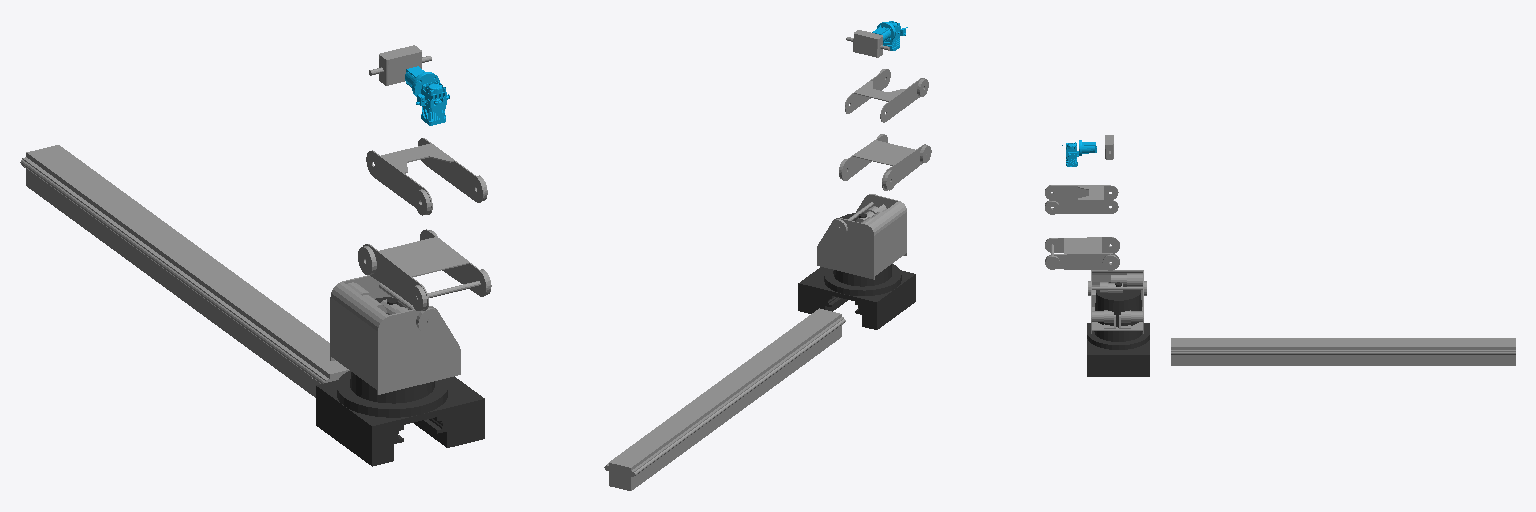
The robot description file, URDF, robot "scorbot-er-v-plus":
<?xml version="1.0" encoding="utf-8"?>
<!-- This URDF was automatically created by SolidWorks to URDF Exporter! Originally created by [author] ([email redacted]) 
     Commit Version: 1.6.0-4-g7f85cfe  Build Version: 1.6.7995.38578
     For more information, please see http://wiki.ros.org/sw_urdf_exporter -->
<robot 
  name="scorbot-er-v-plus">
  <link name="base_link">
    <inertial>
      <origin
        xyz="0 -0.5 0"
        rpy="0 0 0" />
      <mass
        value="300" />
      <inertia
        ixx="1"
        ixy="1"
        ixz="1"
        iyy="1"
        iyz="1"
        izz="1" />
    </inertial>
    <visual>
      <origin
        xyz="0 0 0"
        rpy="0 0 0" />
      <geometry>
        <mesh
          filename="package://scorbot_er_v/meshes/slide_base_link.STL" />
      </geometry>
      <material
        name="">
        <color
          rgba="0.63921 0.63921 0.63921 1" />
      </material>
    </visual>
    <collision>
      <origin
        xyz="0 0 0"
        rpy="0 0 0" />
      <geometry>
        <mesh
          filename="package://scorbot_er_v/meshes/slide_base_link.STL" />
      </geometry>
    </collision>
  </link>
  <link name="slide_base_link">
    <inertial>
      <origin
        xyz="0.01952 0.02097 -0.0065"
        rpy="0 0 0" />
      <mass
        value="5.79" />
      <inertia
        ixx="0.060964921632227"
        ixy="0.00083087941877"
        ixz="-0.004769390211207"
        iyy="0.070370393357185"
        iyz="-0.001444915336114"
        izz="0.074711101297281" />
    </inertial>
    <visual>
      <origin xyz="0 0 0" rpy="0 3.1416 0" />
      <geometry>
        <mesh
          filename="package://scorbot_er_v/meshes/base_link.STL" />
      </geometry>
      <material
        name="">
        <color
          rgba="0.2666 0.2666 0.2666 1" />
      </material>
    </visual>
    <collision>
      <origin
        xyz="0 0 0"
        rpy="0 3.1416 0" />
      <geometry>
        <mesh
          filename="package://scorbot_er_v/meshes/base_link.STL" />
      </geometry>
    </collision>
  </link>
  <joint name="slide_base_joint"
    type="prismatic">
    <origin 
      xyz="0 -0.20 0.105" 
      rpy="1.5708 0 0" />
    <parent link="base_link" />
    <child link="slide_base_link" />
    <axis xyz="0 0 -1" />
    <limit
      lower="-0.9"
      upper="0"
      effort="0"
      velocity="0" />
  </joint>
  <link name="body_link">
    <inertial>
      <origin
        xyz="0.00907 -0.00106 -0.07918"
        rpy="0 0 0" />
      <mass value="4.641" />
      <inertia
        ixx="0.058098396"
        ixy="-0.000241802"
        ixz="-0.000720646"
        iyy="0.058851358"
        iyz="0.000820705"
        izz="0.031538128" />
    </inertial>
    <visual>
      <origin
        xyz="0.0085142 0 0"
        rpy="0 0 1.5708" />
      <geometry>
        <mesh
          filename="package://scorbot_er_v/meshes/body_link.STL" />
      </geometry>
      <material
        name="">
        <color
          rgba="0.63921 0.63921 0.63921 1" />
      </material>
    </visual>
    <collision>
      <origin
        xyz="0.0085142 0 0"
        rpy="0 0 1.5708" />
      <geometry>
        <mesh
          filename="package://scorbot_er_v/meshes/body_link.STL" />
      </geometry>
    </collision>
  </link>
  <joint name="body_joint"
    type="continuous">
    <origin 
      xyz="0 0.213 -0.0042571" 
      rpy="-1.5708 -1.5708 0" />
    <parent link="slide_base_link" />
    <child link="body_link" />
    <axis xyz="0 0 1" />
  </joint>
  <link name="shoulder_link">
    <inertial>
      <origin
        xyz="-0.1205 0.00487 -0.00397"
        rpy="0 0 0" />
      <mass value="2.249" />
      <inertia
        ixx="0.009020476"
        ixy="0.001152136"
        ixz="-0.002680841"
        iyy="0.058795509"
        iyz="-0.000000956"
        izz="0.051409972" />
    </inertial>
    <visual>
      <origin xyz="0 0 0" rpy="0 0 0" />
      <geometry>
        <mesh
          filename="package://scorbot_er_v/meshes/shoulder_link.STL" />
      </geometry>
      <material
        name="">
        <color rgba="0.63921 0.63921 0.63921 1" />
      </material>
    </visual>
    <collision>
      <origin xyz="0 0 0" rpy="0 0 0" />
      <geometry>
        <mesh
          filename="package://scorbot_er_v/meshes/shoulder_link.STL" />
      </geometry>
    </collision>
  </link>
  <joint name="shoulder_joint"
    type="continuous">
    <origin 
      xyz="0.0335142 0 0.133" 
      rpy="1.5708 0 0" />
    <parent link="body_link" />
    <child link="shoulder_link" />
    <axis xyz="0 0 1" />
  </joint>
  <link name="elbow_link">
    <inertial>
      <origin 
        xyz="0.14132 0.00473 0.00011" 
        rpy="0 0 0" />
      <mass value="1.1913" />
      <inertia
        ixx="0.005713218"
        ixy="0.00060436"
        ixz="-0.000002235"
        iyy="0.055765142"
        iyz="0"
        izz="0.051303852" />
    </inertial>
    <visual>
      <origin xyz="0 0 0" rpy="0 0 0" />
      <geometry>
        <mesh filename="package://scorbot_er_v/meshes/elbow_link.STL" />
      </geometry>
      <material
        name="">
        <color rgba="0.63921 0.63921 0.63921 1" />
      </material>
    </visual>
    <collision>
      <origin xyz="0 0 0" rpy="0 0 0" />
      <geometry>
        <mesh filename="package://scorbot_er_v/meshes/elbow_link.STL" />
      </geometry>
    </collision>
  </link>
  <joint name="elbow_joint"
    type="continuous">
    <origin 
      xyz="0.00063455 0.22457 0" 
      rpy="0 0 0" />
    <parent link="shoulder_link" />
    <child link="elbow_link" />
    <axis xyz="0 0 1" />
  </joint>
  <link name="wrist_link">
    <inertial>
      <origin 
        xyz="0 0 0" 
        rpy="0 0 0" />
      <mass value="0.634" />
      <inertia
        ixx="0.0001"
        ixy="0.0001"
        ixz="0.0001"
        iyy="0.0001"
        iyz="0.0001"
        izz="0.0001" />
    </inertial>
    <visual>
      <origin xyz="0 0 0" rpy="0 0 0" />
      <geometry>
        <mesh
          filename="package://scorbot_er_v/meshes/wrist_link.STL" />
      </geometry>
      <material
        name="">
        <color rgba="0.63921 0.63921 0.63921 1" />
      </material>
    </visual>
    <collision>
      <origin xyz="0 0 0" rpy="0 0 0" />
      <geometry>
        <mesh filename="package://scorbot_er_v/meshes/wrist_link.STL" />
      </geometry>
    </collision>
  </link>
  <joint name="wrist_joint"
    type="continuous">
    <origin 
      xyz="0.0039335 0.21996 0" 
      rpy="0 0 -0.032728" />
    <parent link="elbow_link" />
    <child link="wrist_link" />
    <axis xyz="0 0 1" />
  </joint>
  <link name="roll_wrist_link">
    <inertial>
      <origin 
        xyz="0 0 0" 
        rpy="0 0 0" />
      <mass value="0.449" />
      <inertia
        ixx="0.0001"
        ixy="0.0001"
        ixz="0.0001"
        iyy="0.0001"
        iyz="0.0001"
        izz="0.0001" />
    </inertial>
    <visual>
      <origin xyz="0 0 0" rpy="0 0 0" />
      <geometry>
        <mesh filename="package://scorbot_er_v/meshes/roll_wrist_link.STL" />
      </geometry>
      <material
        name="">
        <color rgba="0.08235 0.73725 0.95294 1" />
      </material>
    </visual>
    <collision>
      <origin xyz="0 0 0" rpy="0 0 0" />
      <geometry>
        <mesh filename="package://scorbot_er_v/meshes/roll_wrist_link.STL" />
      </geometry>
    </collision>
  </link>
  <joint name="roll_wrist_joint"
    type="continuous">
    <origin 
      xyz="0.0185 0 0" 
      rpy="1.5708 1.5708 1.5708" />
    <parent link="wrist_link" />
    <child link="roll_wrist_link" />
    <axis xyz="0 0 1" />
  </joint>
</robot>

--- What the picture shows (computed from the rendered views, not written in the file) ---
The picture shows the robot from 3 angles, left to right: view 1: azimuth 30°, elevation 25°; view 2: azimuth 150°, elevation 25°; view 3: azimuth 270°, elevation 25°; orthographic projection.
Model scorbot-er-v-plus with 7 links and 6 joints (5 continuous, 1 prismatic), rooted at base_link, posed all joints at 0.
Links seen in each view (by area): view 1: base_link, body_link, slide_base_link, shoulder_link, elbow_link, roll_wrist_link, wrist_link; view 2: base_link, body_link, slide_base_link, shoulder_link, elbow_link, wrist_link, roll_wrist_link; view 3: base_link, slide_base_link, shoulder_link, body_link, elbow_link.
Boxes of the visible links, x1,y1,x2,y2 form: base_link: (20,145,349,397); body_link: (330,275,460,394); slide_base_link: (316,297,484,466); shoulder_link: (358,229,491,310); elbow_link: (366,138,487,215); roll_wrist_link: (405,66,449,125); wrist_link: (369,45,431,85); base_link: (604,308,845,490); body_link: (817,194,906,279); slide_base_link: (798,213,915,329); shoulder_link: (839,134,931,190); elbow_link: (845,69,928,122); wrist_link: (846,30,889,57); roll_wrist_link: (872,21,907,50); base_link: (1171,338,1515,365); slide_base_link: (1087,282,1149,376); shoulder_link: (1045,237,1119,270); body_link: (1088,270,1146,333); elbow_link: (1045,185,1118,214).
Size in the robot's own frame: 0.28 by 1.78 by 0.9271 metres.
Meshes: 7 distinct files referenced, 7 mesh visuals loaded (7 binary STL).